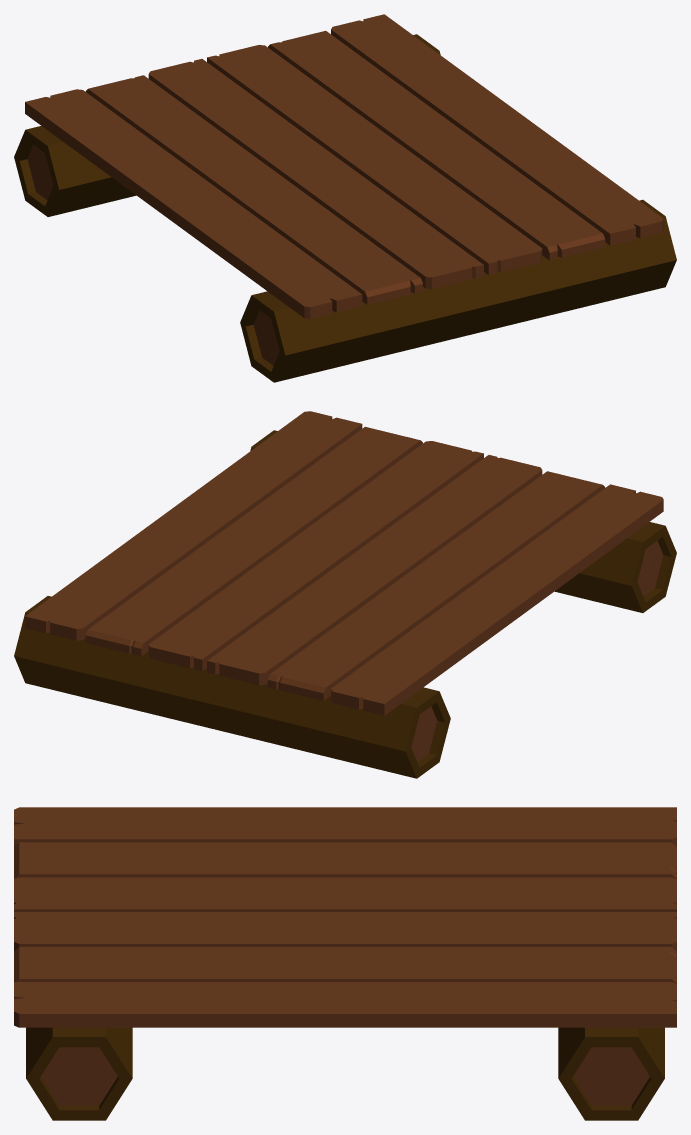
The model's file is foundation.glb.
3 views of the same model, one above another, from view 1: azimuth 30°, elevation 25°; view 2: azimuth 150°, elevation 25°; view 3: azimuth 270°, elevation 25° (orthographic). The views are drawn at different scales.
Visible parts, largest first — view 1: Cylinder001; view 2: Cylinder001; view 3: Cylinder001.
Part boxes in pixels (x1,y1,x2,y2): Cylinder001: (14, 14, 676, 382); Cylinder001: (14, 411, 676, 778); Cylinder001: (14, 807, 676, 1120).
Size of the model in its own units: 100 by 20.2 by 125.
